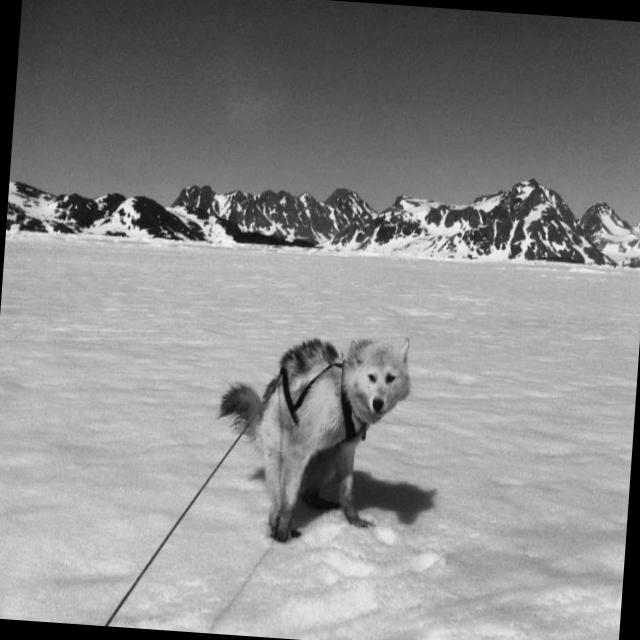squatting: (202, 315, 420, 555)
